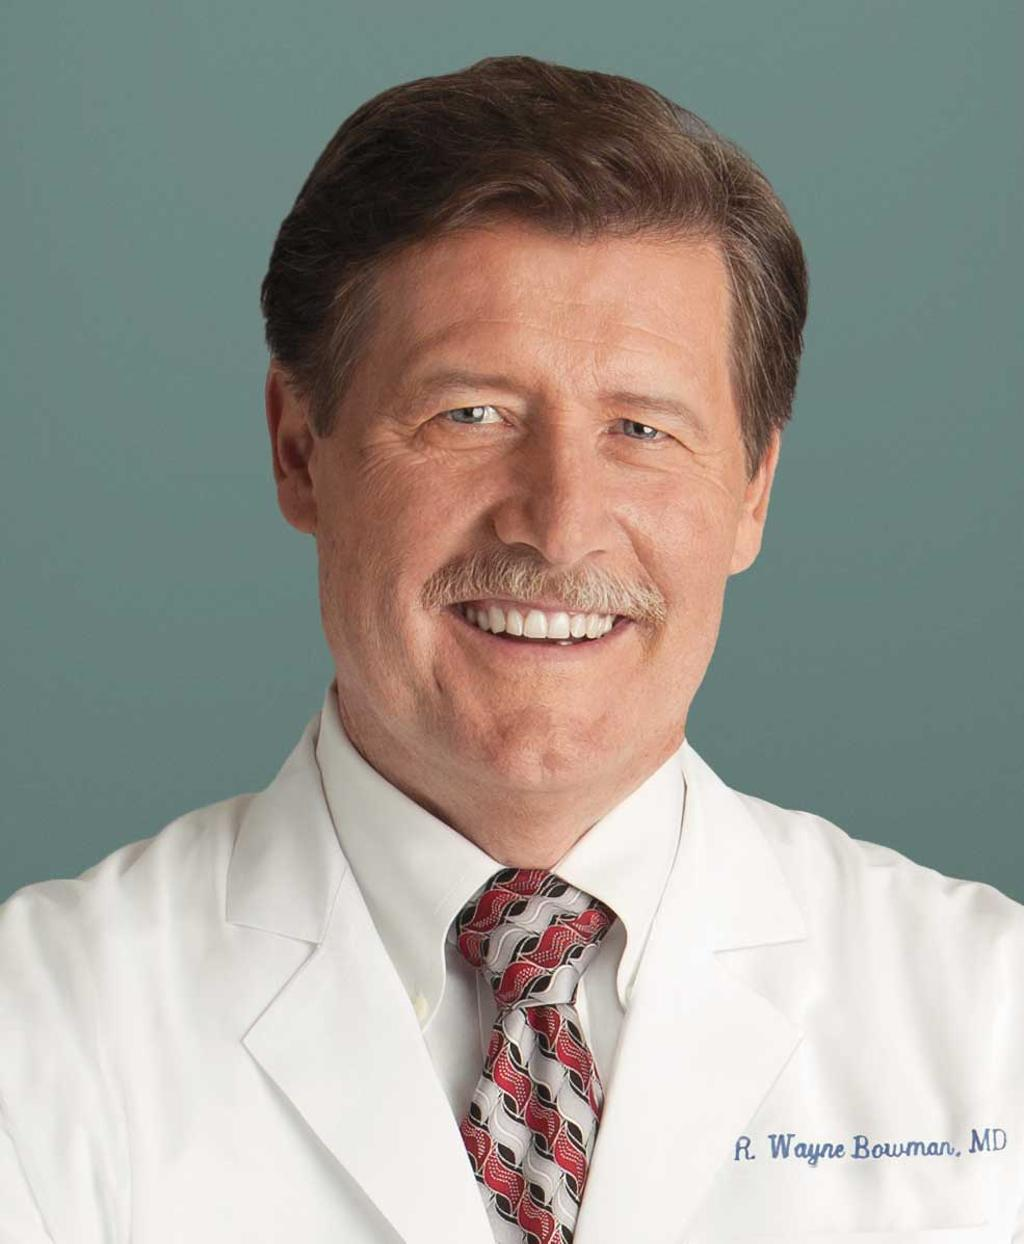face: (330, 240, 738, 786)
